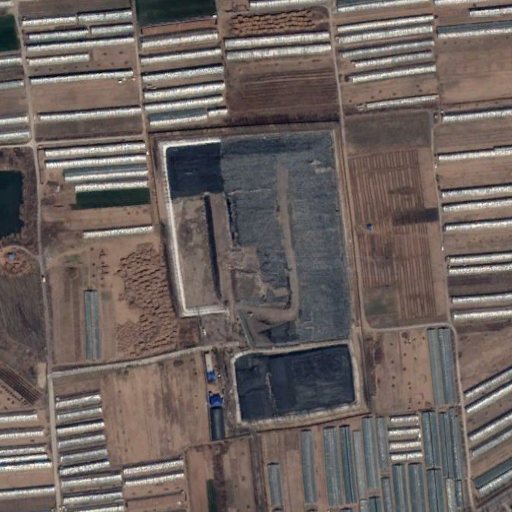lf: (159, 131, 350, 342), (234, 344, 358, 428)
